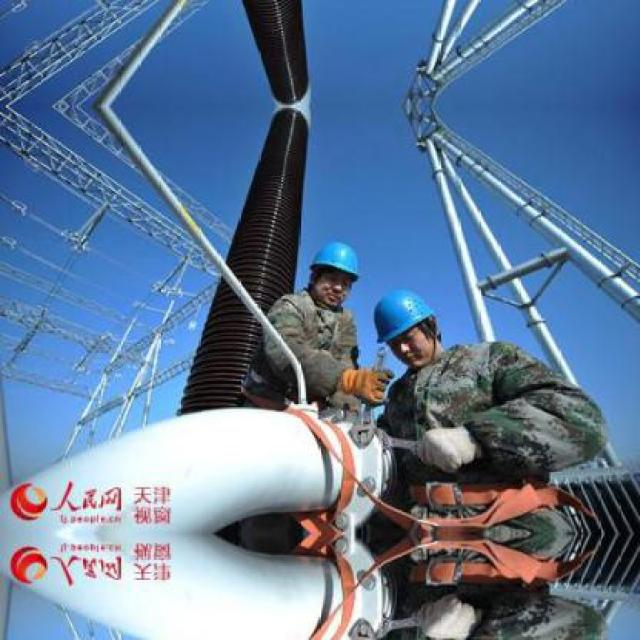helmet: (368, 282, 444, 373), (305, 233, 366, 311)
